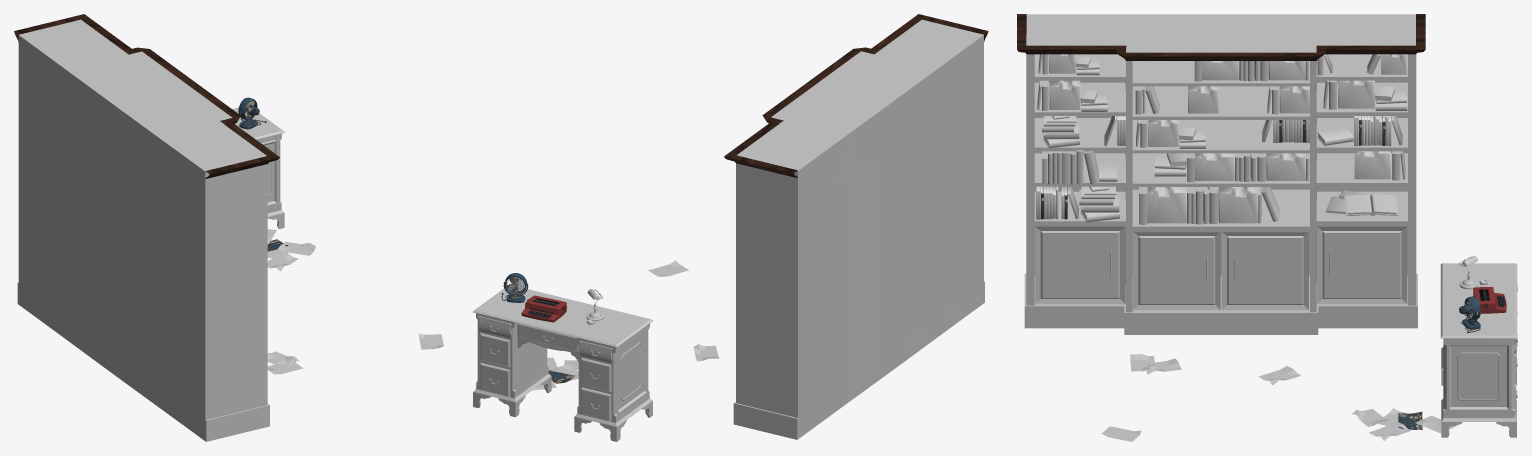
Rendered from Office.fbx.
The picture shows the model from 3 angles, left to right: view 1: azimuth 30°, elevation 25°; view 2: azimuth 150°, elevation 25°; view 3: azimuth 270°, elevation 25°; orthographic projection. The views are drawn at different scales.
Visible parts, largest first — view 1: Cylinder_Shelf_0.001, Antique Desk, Retro-style Desk Fan; view 2: Cylinder_Shelf_0.001, Antique Desk, typewriter_a, Retro-style Desk Fan; view 3: Cylinder_Shelf_0.001, BOOKS_1, Antique Desk, typewriter_a, Retro-style Desk Fan.
Part boxes in pixels (<box>): Cylinder_Shelf_0.001: <box>14,14,279,441</box>; Antique Desk: <box>232,107,285,228</box>; Retro-style Desk Fan: <box>238,97,266,129</box>; Cylinder_Shelf_0.001: <box>724,14,988,439</box>; Antique Desk: <box>472,288,653,441</box>; typewriter_a: <box>521,295,566,322</box>; Retro-style Desk Fan: <box>501,273,528,302</box>; Cylinder_Shelf_0.001: <box>1017,14,1425,334</box>; BOOKS_1: <box>1036,54,1407,224</box>; Antique Desk: <box>1440,263,1517,437</box>; typewriter_a: <box>1473,287,1506,313</box>; Retro-style Desk Fan: <box>1459,296,1480,332</box>.
Bounding box in the file's own units: 22263 × 20083 × 32238.
